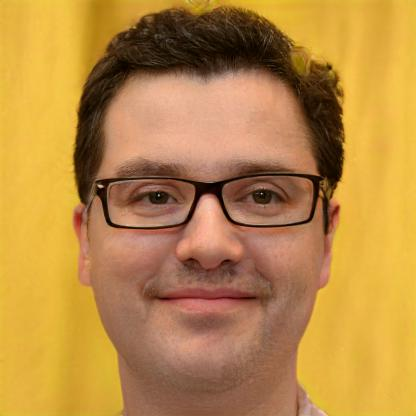glasses: (90, 171, 328, 230)
